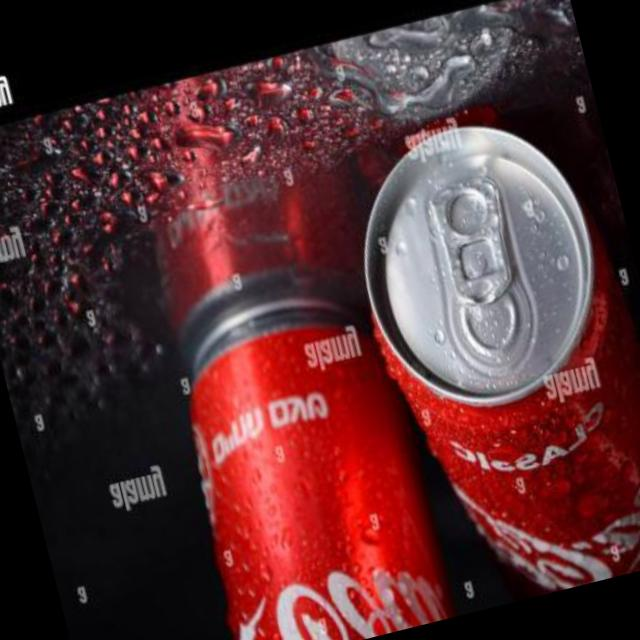metal: (363, 128, 640, 593), (191, 302, 453, 640)
